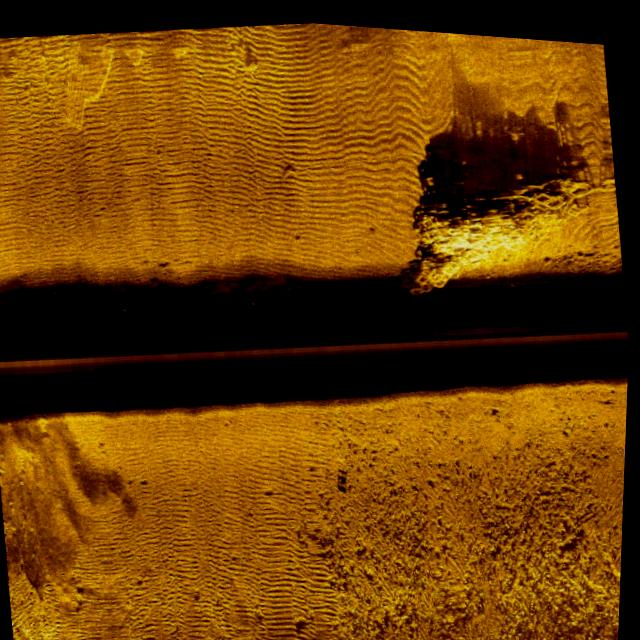artificial reef: (367, 125, 620, 306)
